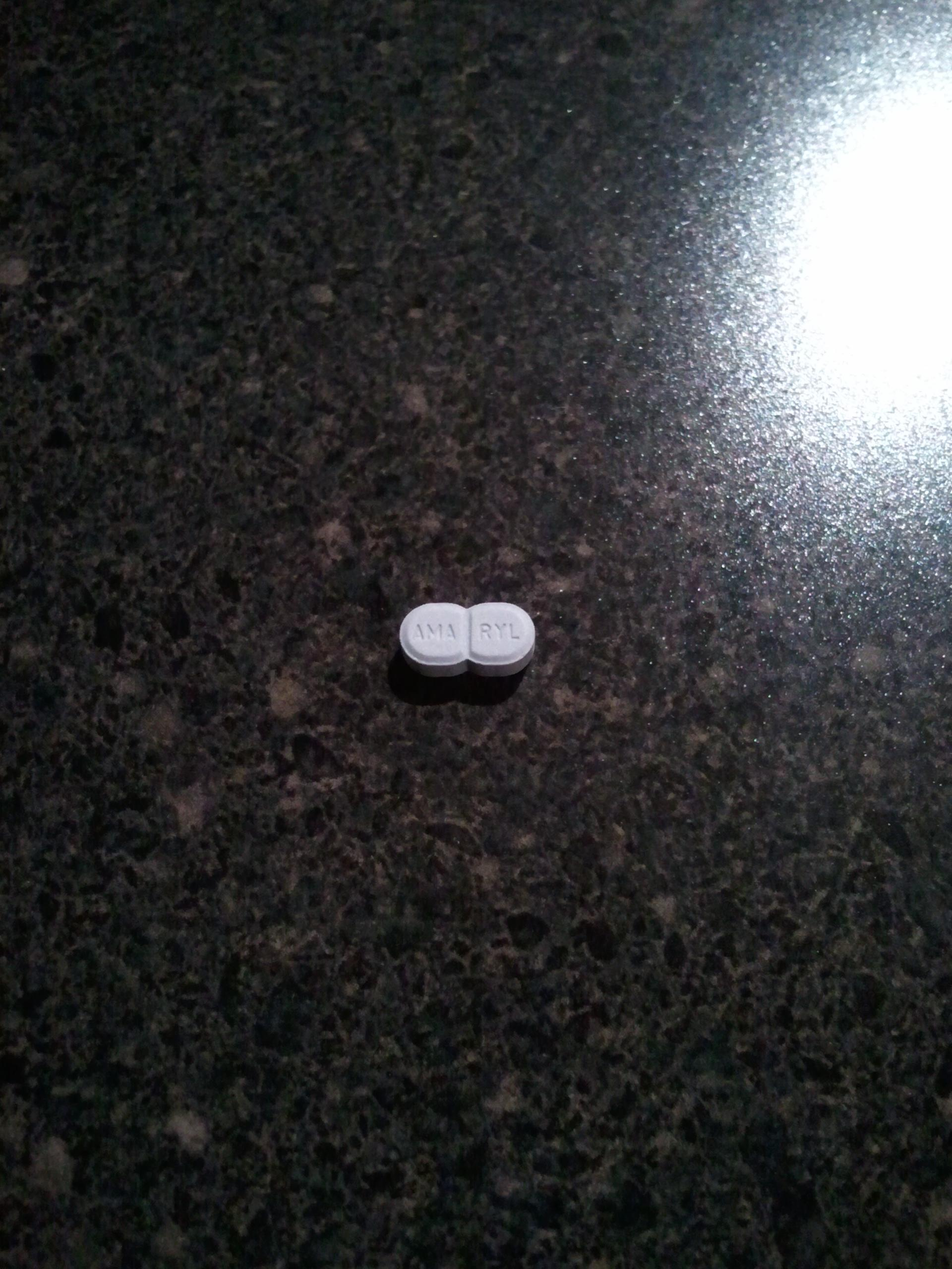Pill: (377, 582, 557, 691)
